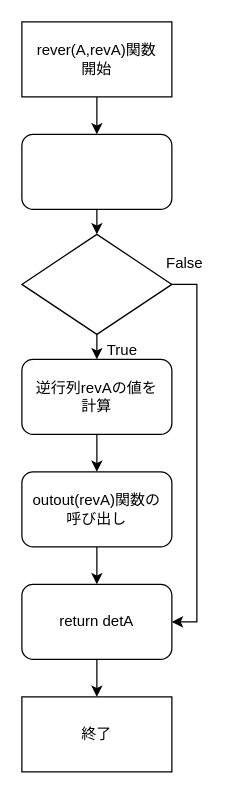
Image size: 238x794. Some labels were removed from this diagram. The centre of each missing label's shape, as x and y in pixels:
"detA != 0" belongs at (96,283).
"detAの値を計算" belongs at (96,171).
